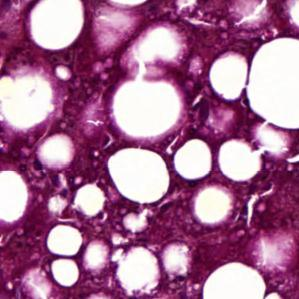steatosis: (28, 0, 85, 51), (174, 138, 213, 181), (49, 258, 80, 286)
